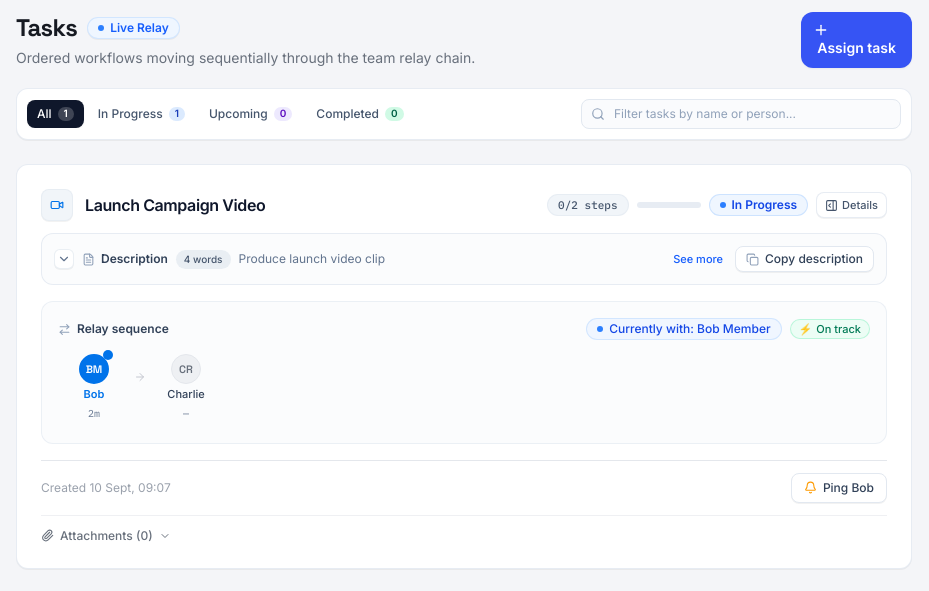
Test: Tasks Screen › lists attachments, renders video preview for video attachments, and shows lossless download link
Click the button "Attachments (0)": (106, 536) x1=41 y1=528 x2=171 y2=544
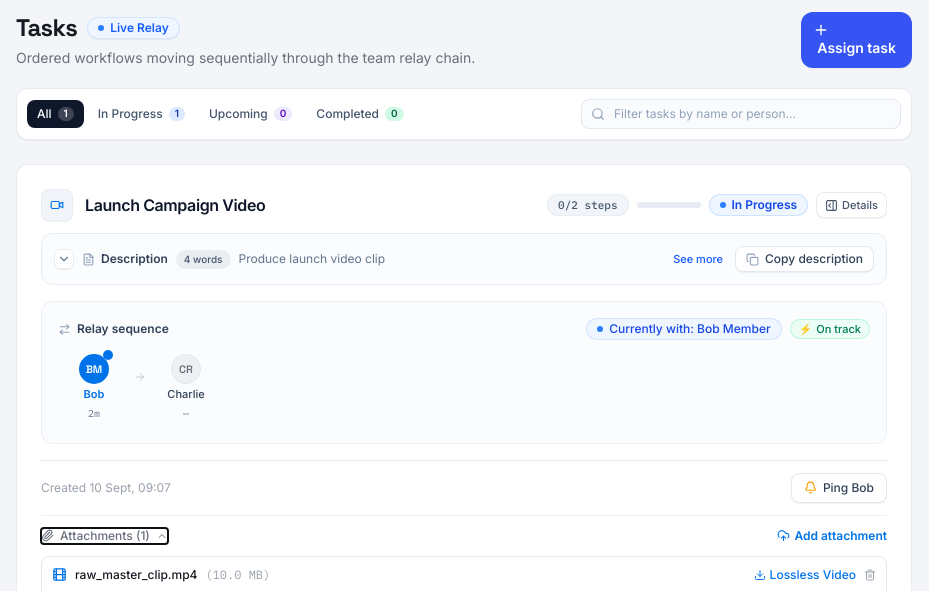
Expected: the text "raw_master_clip.mp4" is shown, x1=75 y1=567 x2=197 y2=583
Expected: the text "(10.0 MB)" is shown, x1=205 y1=567 x2=270 y2=583
